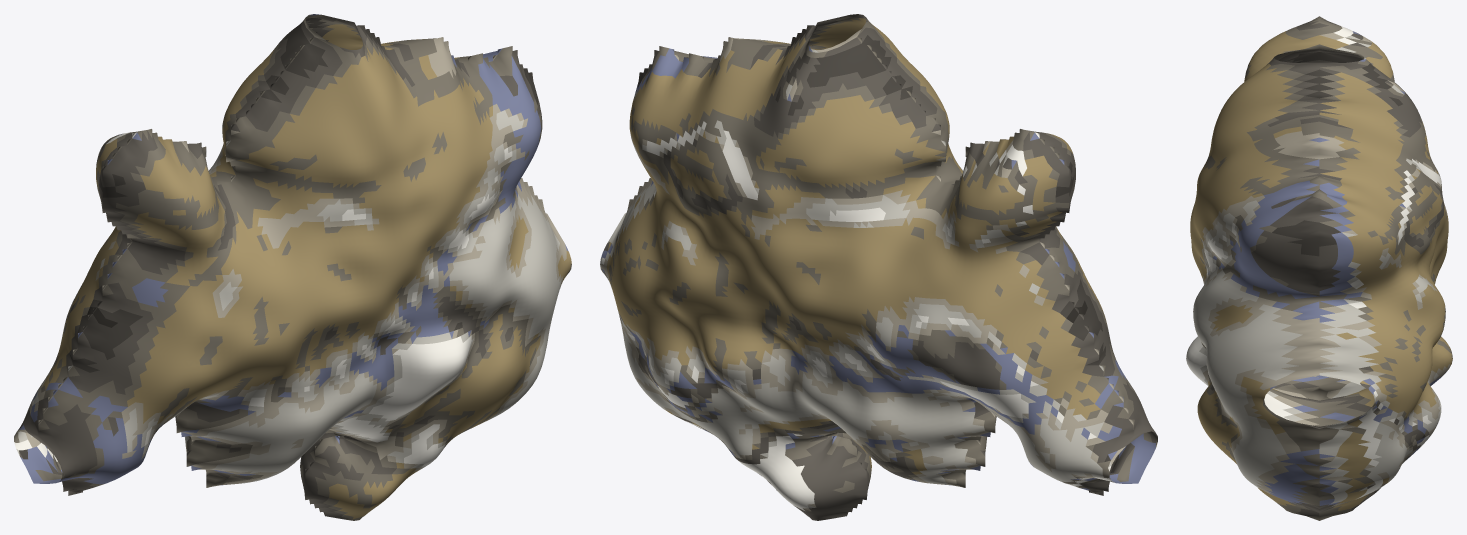
The model's file is strawtle.glb.
3 views of the same model, side by side, from view 1: azimuth 30°, elevation 25°; view 2: azimuth 150°, elevation 25°; view 3: azimuth 270°, elevation 25° (orthographic). The views are drawn at different scales.
Parts seen in each view (by area): view 1: strawtle; view 2: strawtle; view 3: strawtle.
Boxes of the visible parts, left/top/right/bottom form: strawtle: left=14, top=14, right=571, bottom=520; strawtle: left=600, top=14, right=1157, bottom=520; strawtle: left=1186, top=16, right=1452, bottom=520.
Size of the model in its own units: 761 by 689 by 363.
